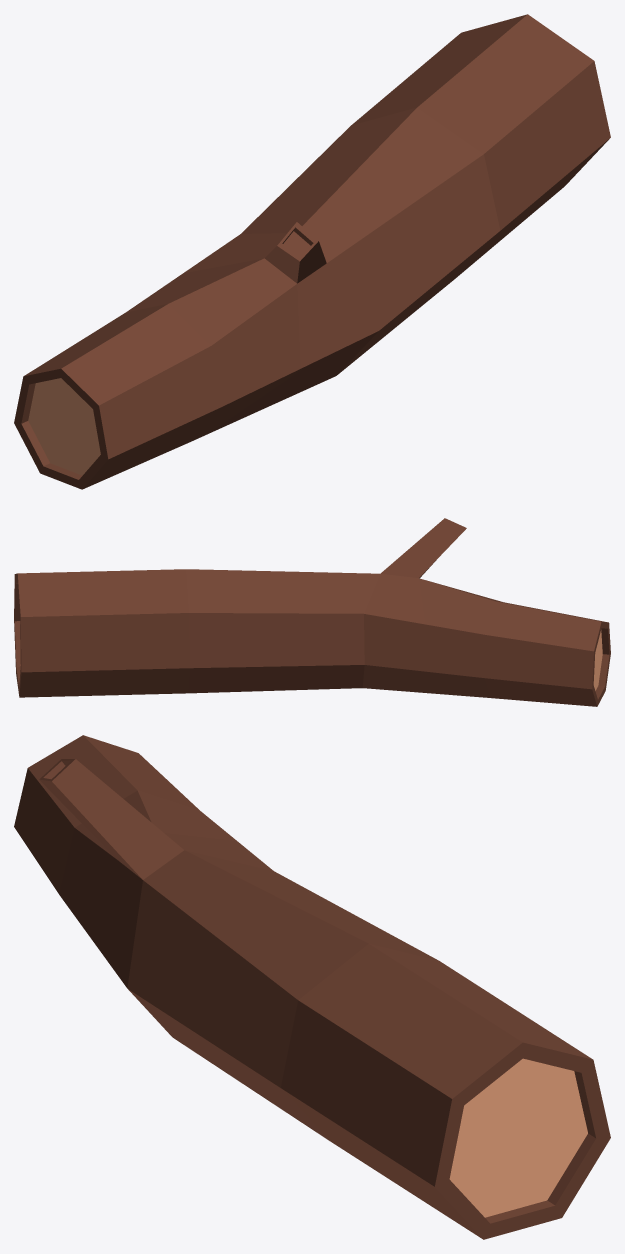
The model's file is Branch.fbx.
The picture shows the model from 3 angles, top to bottom: view 1: azimuth 30°, elevation 25°; view 2: azimuth 150°, elevation 25°; view 3: azimuth 270°, elevation 25°; orthographic projection. The views are drawn at different scales.
Parts seen in each view (by area): view 1: Cylinder.024; view 2: Cylinder.024; view 3: Cylinder.024.
Boxes of the visible parts, x1,y1,x2,y2 form: Cylinder.024: (14,14,610,489); Cylinder.024: (14,518,610,706); Cylinder.024: (14,735,610,1239).
Size of the model in its own units: 114 by 31.08 by 72.13.
